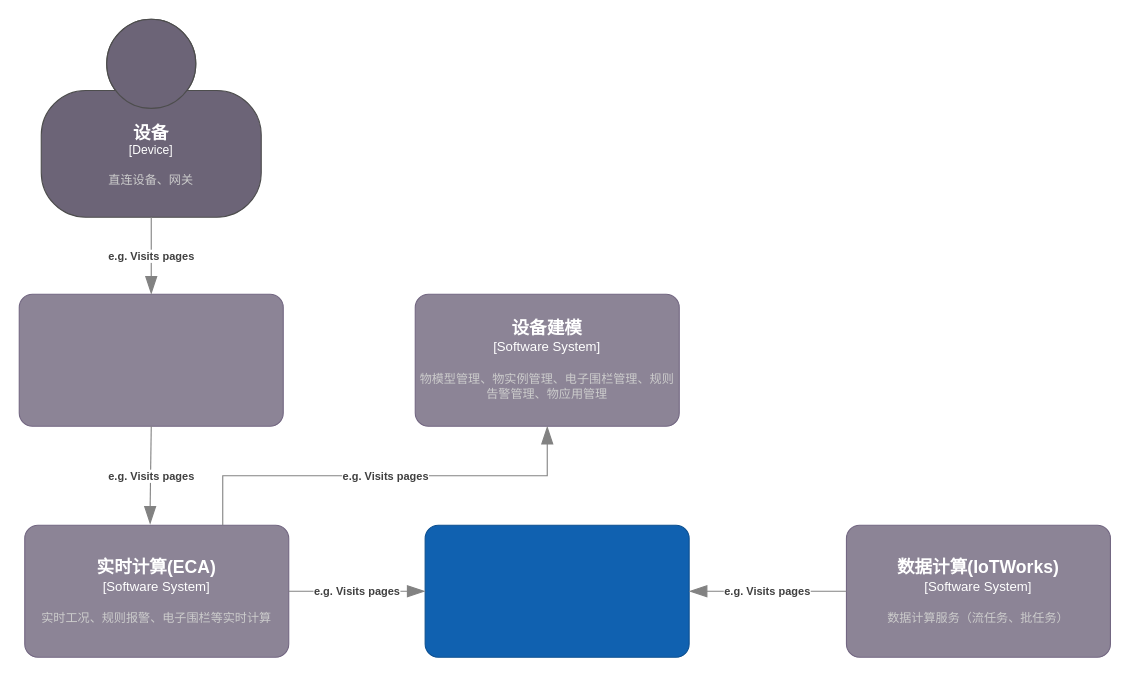
This 1130x677 diagram has some shape labels left out. The box of each missing label's shape, as (x1, y1, x2, y2) in pixels:
数据存储 [Software System] 实时工况查询、历史工况的温存储(TDengine)和冷存储(Paimon)、历史工况查询: (424, 524, 689, 657)
设备接入 [Software System] 设备连接、工况转发、连接管理、固件管理、指令下发、设备影子、模型同步、云云转发、设备上下线: (18, 293, 283, 426)
